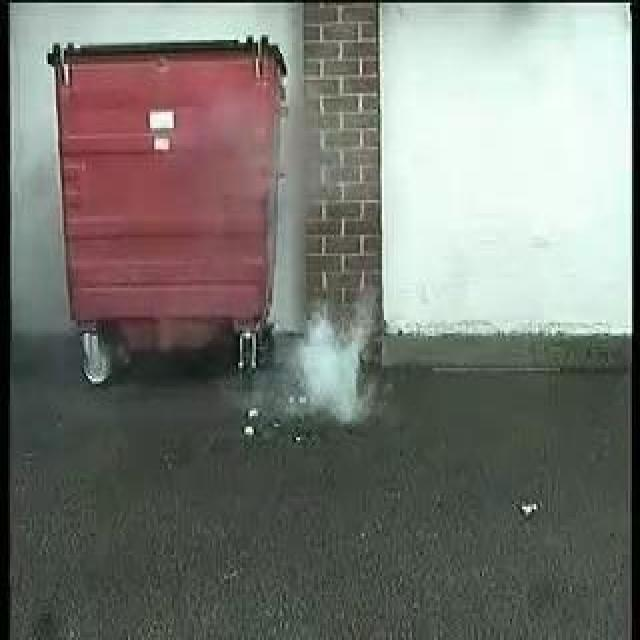Smoke: (284, 307, 376, 432)
